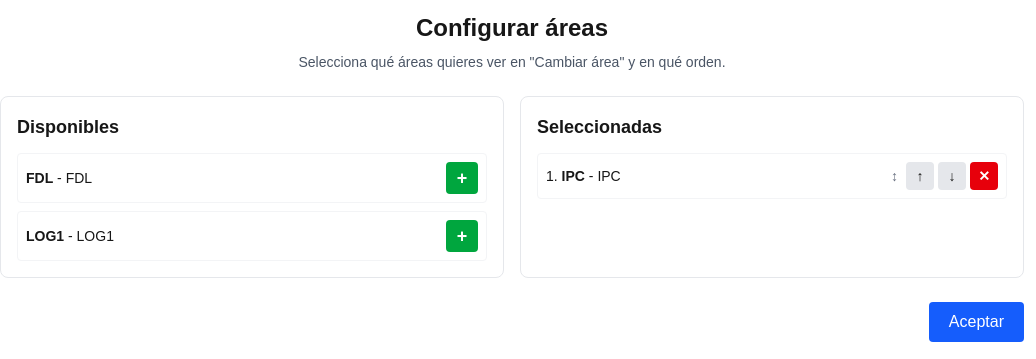
Test: AreaConfiguration › adds an available area to selected list
This screenshot has width=1036, height=359.
Click the button named "Agregar FDL" at (462, 178), box [446,162,478,194]
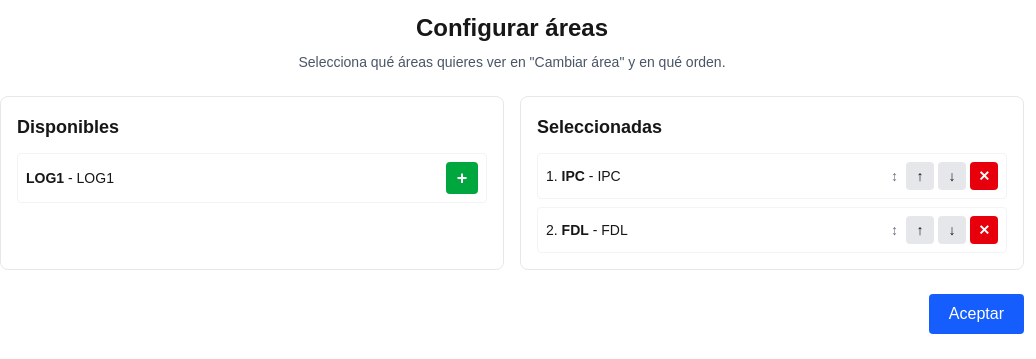
Now the button named "Quitar FDL" is shown, box [970,216,998,244]
